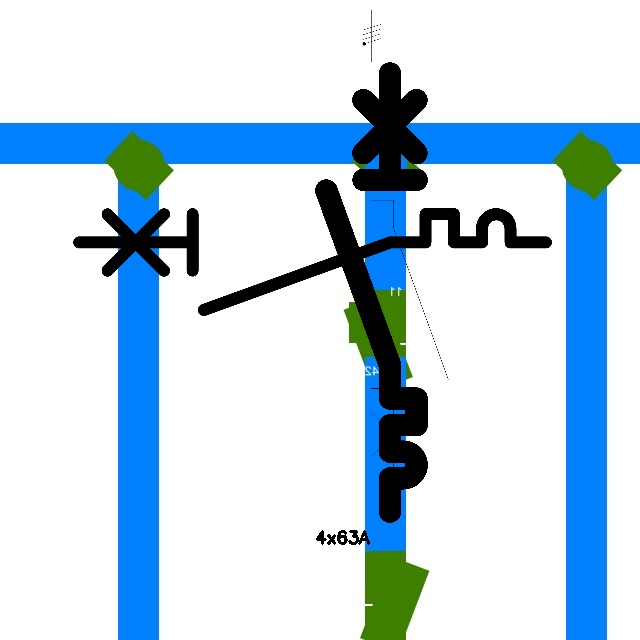interruptor_termomagnetico: (67, 202, 558, 322), (315, 62, 428, 523), (361, 93, 458, 490)
